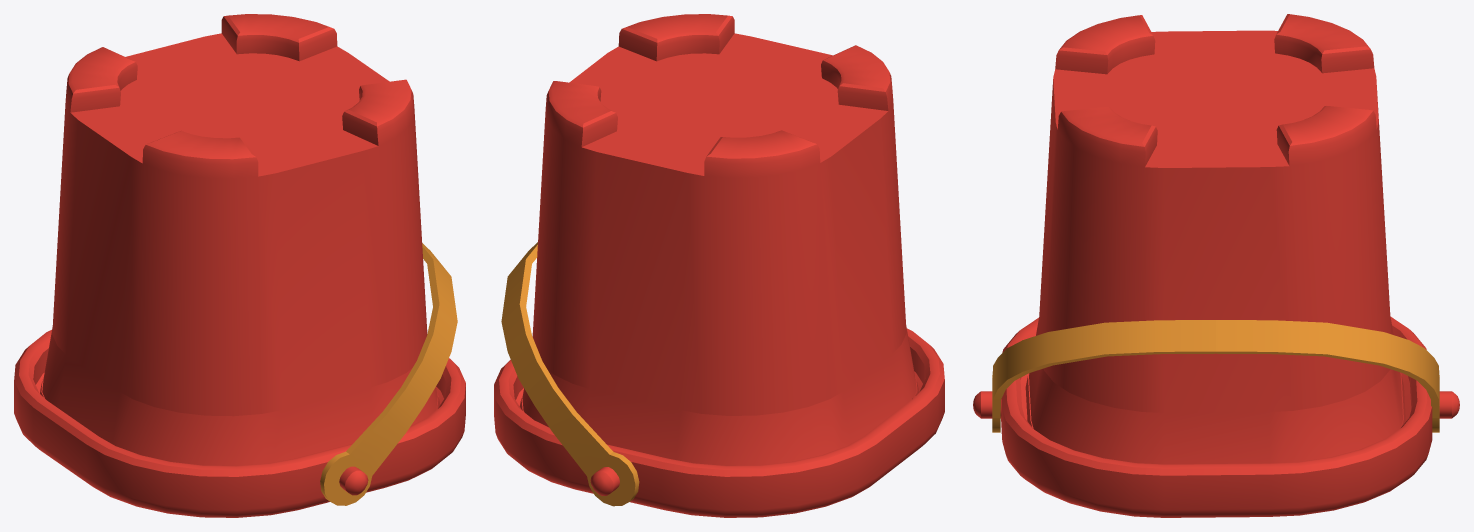
The model's file is Bucket2.fbx.
The picture shows the model from 3 angles, left to right: view 1: azimuth 30°, elevation 25°; view 2: azimuth 150°, elevation 25°; view 3: azimuth 270°, elevation 25°; orthographic projection. The views are drawn at different scales.
Parts seen in each view (by area): view 1: Cylinder.021, Cube.002; view 2: Cylinder.021, Cube.002; view 3: Cylinder.021, Cube.002.
Boxes of the visible parts, <box> form: Cylinder.021: <box>14,14,465,517</box>; Cube.002: <box>320,243,457,505</box>; Cylinder.021: <box>494,14,944,517</box>; Cube.002: <box>501,242,639,506</box>; Cylinder.021: <box>973,14,1459,517</box>; Cube.002: <box>992,320,1439,432</box>.
Bounding box in the file's own units: 263 × 237 × 296.
